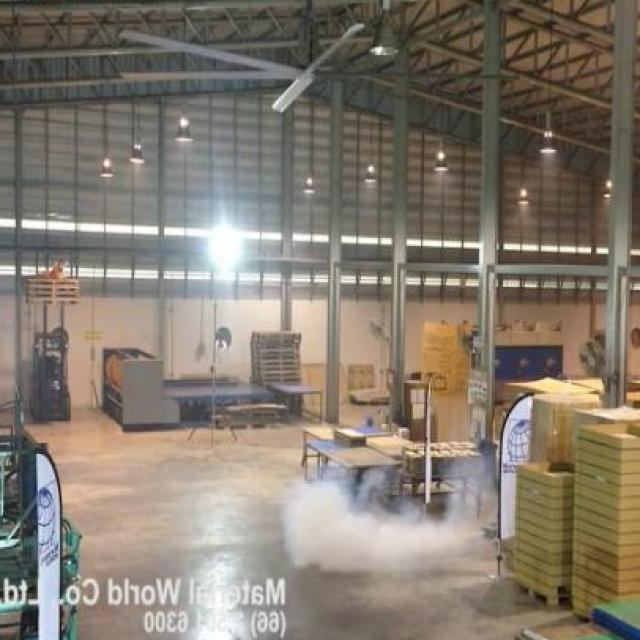fire: (275, 475, 458, 576)
